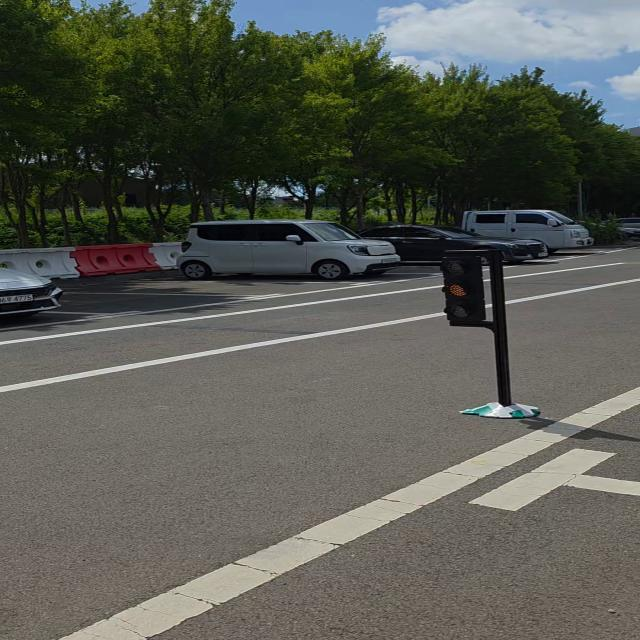yellow: (425, 248, 492, 333)
